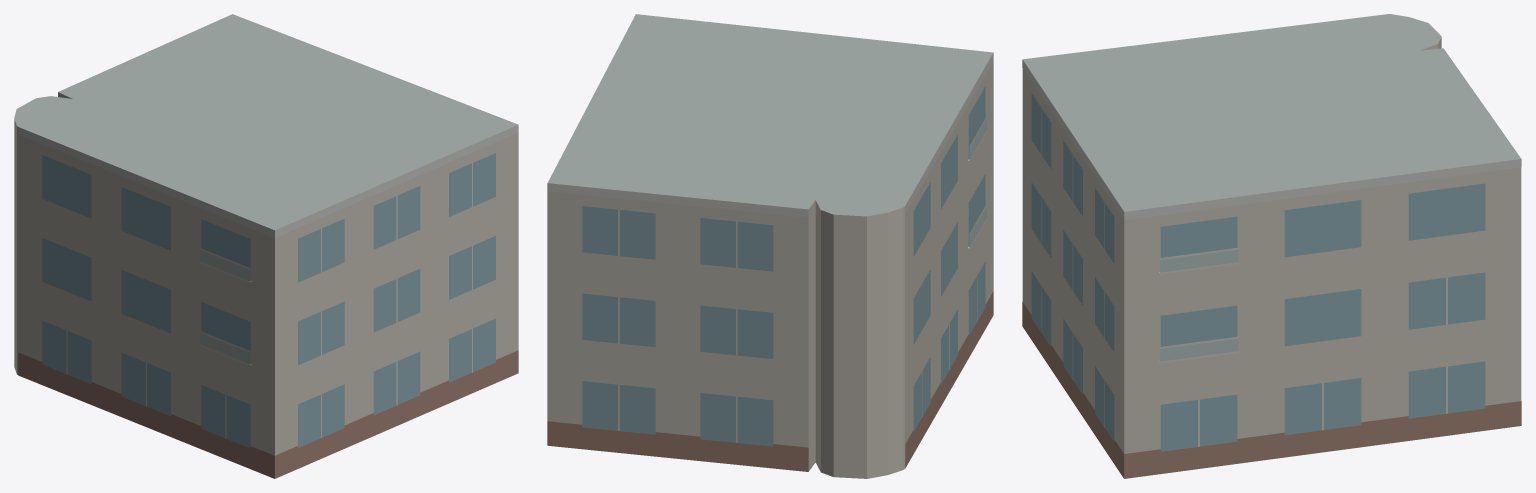
The model's file is survey-upis-32937124.glb.
3 views of the same model, side by side, from view 1: azimuth 30°, elevation 25°; view 2: azimuth 150°, elevation 25°; view 3: azimuth 270°, elevation 25° (orthographic). The views are drawn at different scales.
Visible parts, largest first — view 1: survey-upis-32937124.tmp; view 2: survey-upis-32937124.tmp; view 3: survey-upis-32937124.tmp.
Boxes of the visible parts, box(x1,y1,x2,y2) form: survey-upis-32937124.tmp: box(14, 14, 518, 478); survey-upis-32937124.tmp: box(547, 14, 993, 478); survey-upis-32937124.tmp: box(1022, 14, 1521, 478).
Size of the model in its own units: 12.41 by 7.8 by 13.23.
